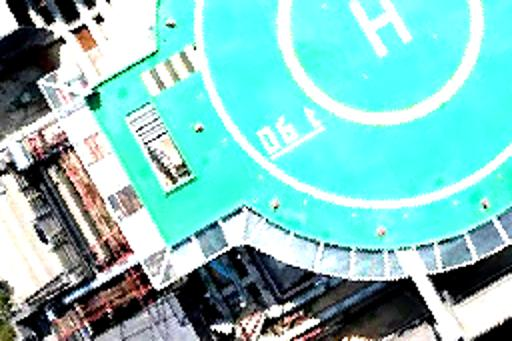Apron: (270, 1, 494, 130)
